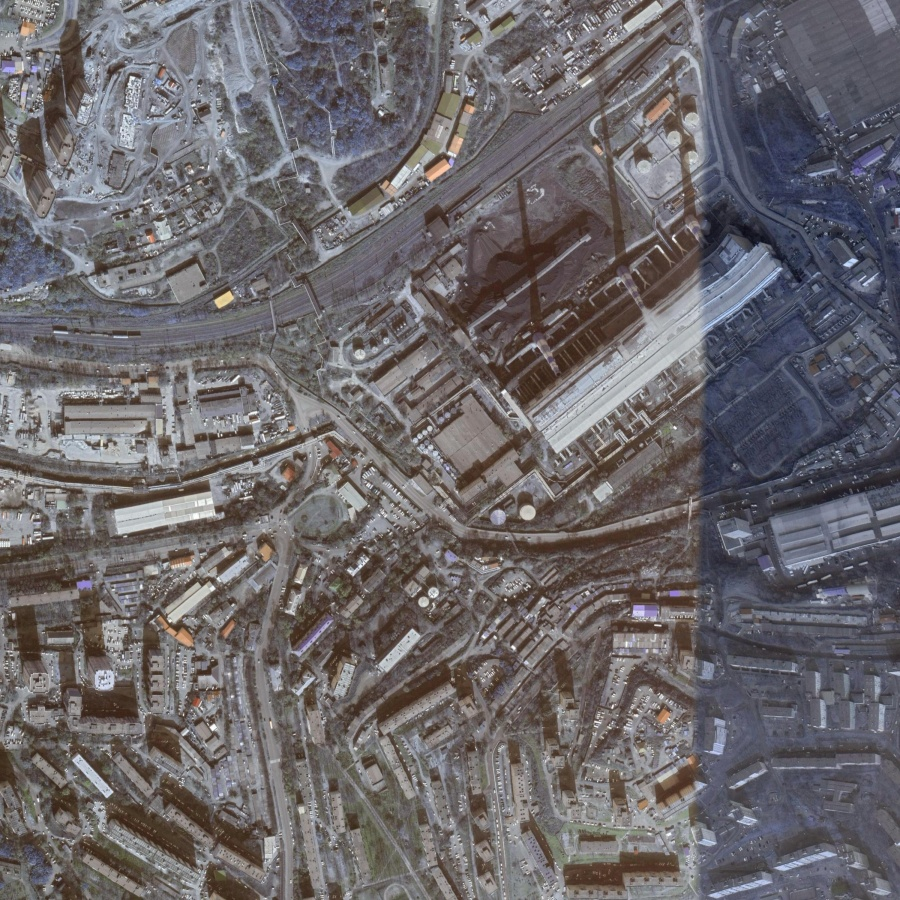PowerPlant: (451, 88, 778, 456)
